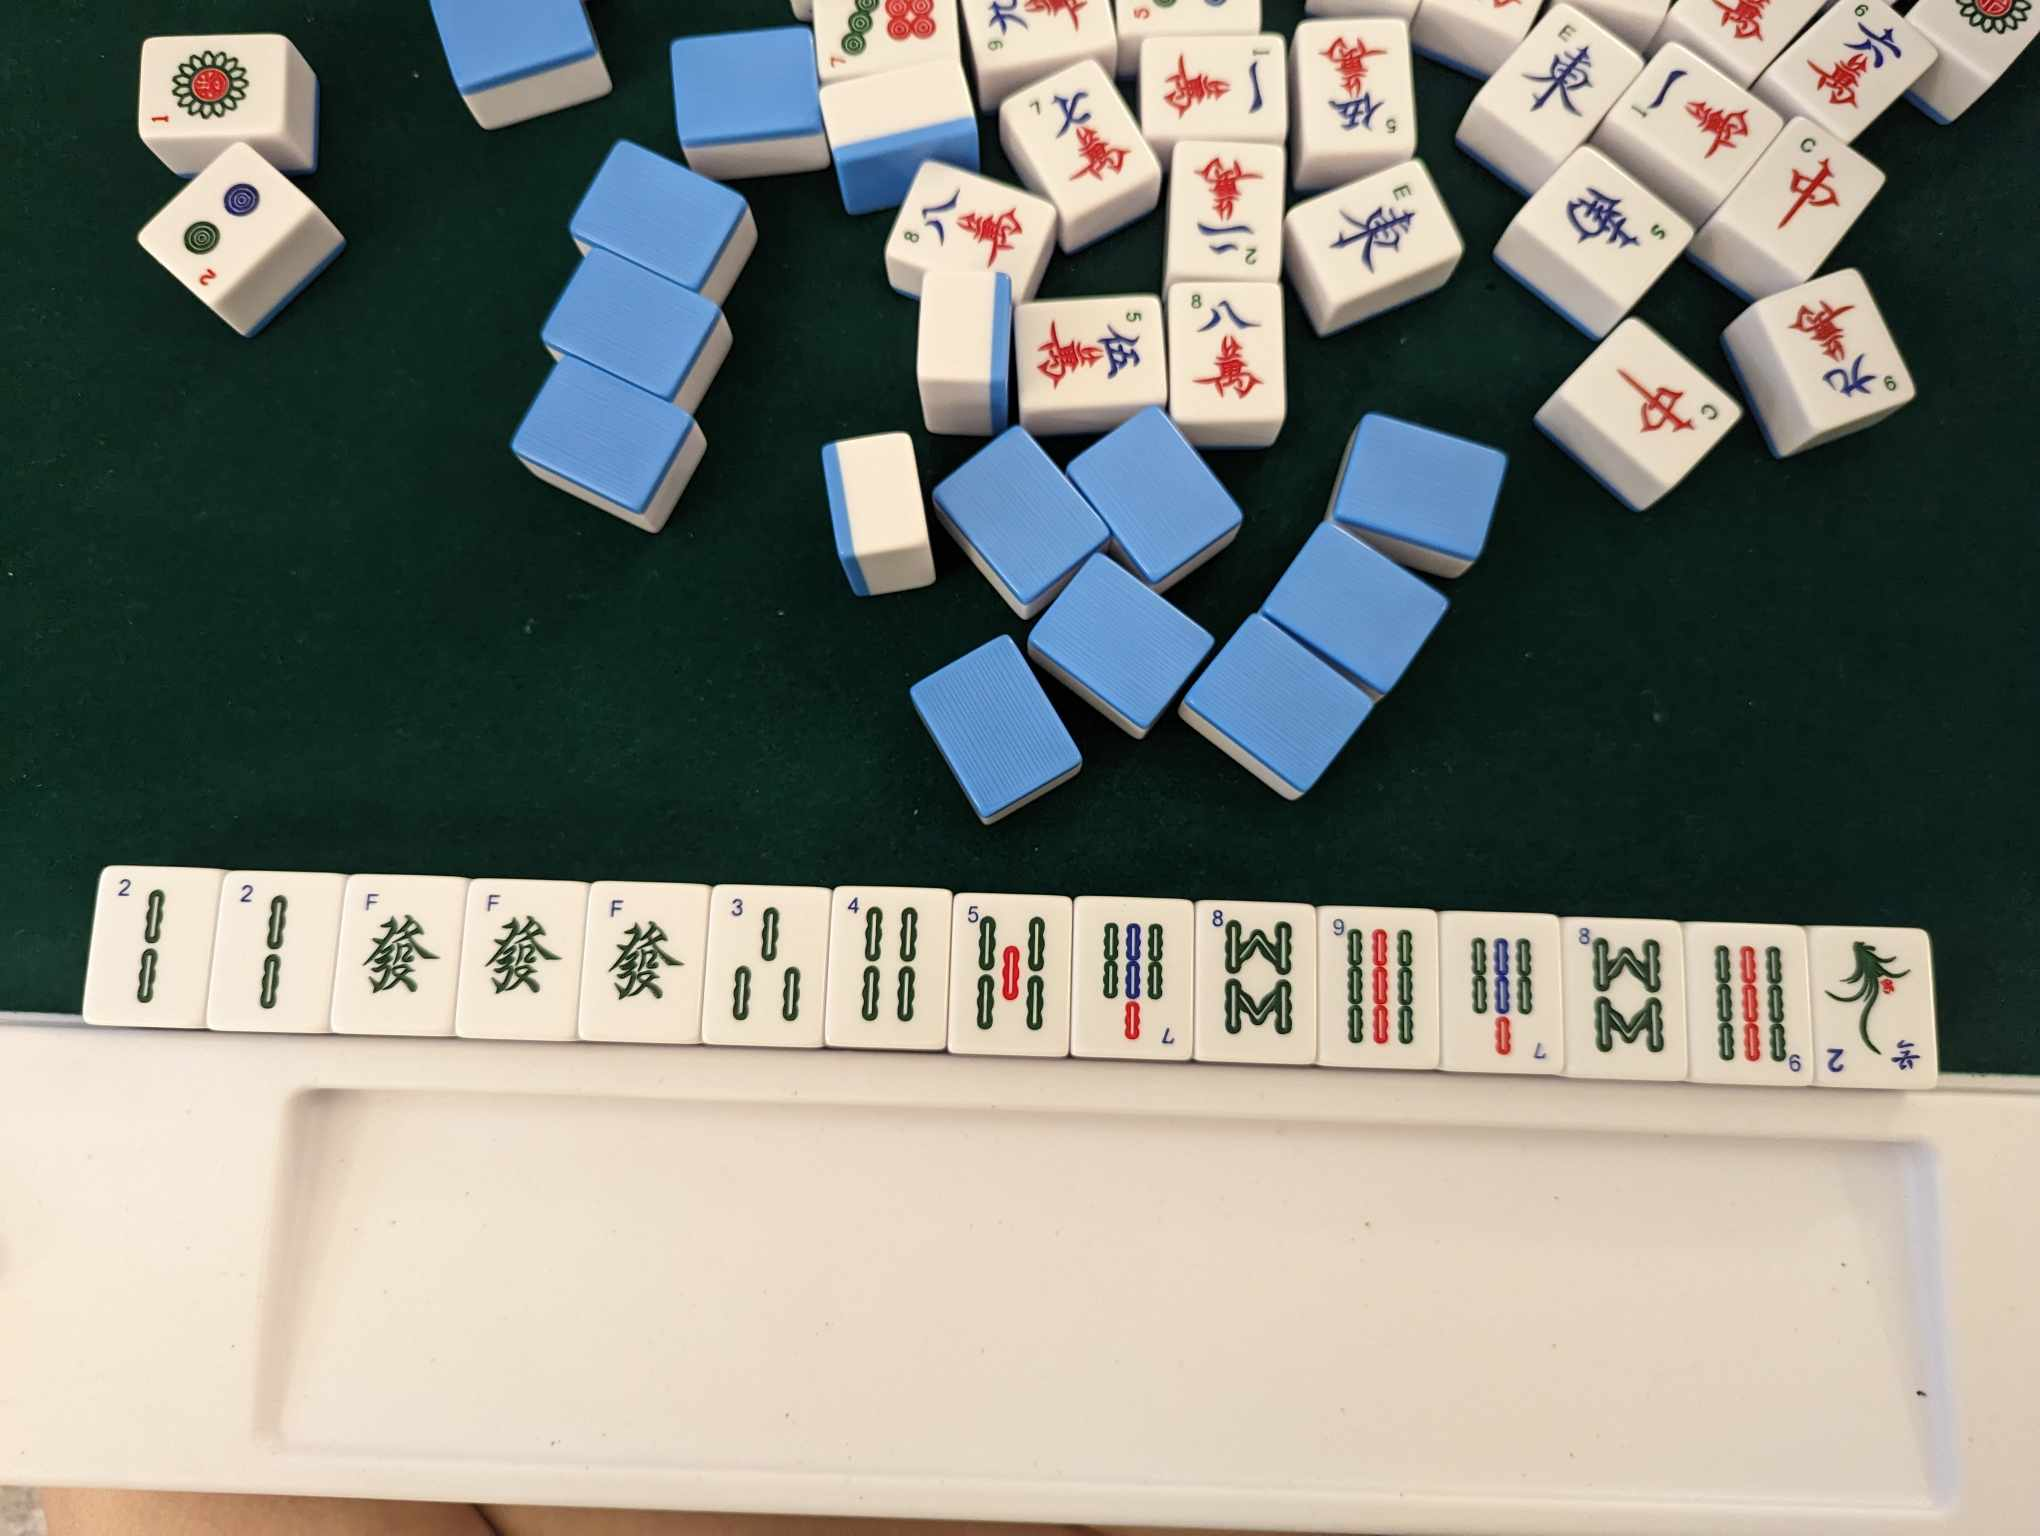bamboo-eight: (1574, 921, 1679, 1075), (1201, 904, 1309, 1052)
bamboo-five: (960, 895, 1055, 1046)
bamboo-four: (837, 889, 942, 1047)
bamboo-nine: (1693, 929, 1805, 1084), (1326, 910, 1430, 1063)
bamboo-seven: (1448, 916, 1556, 1068), (1084, 905, 1182, 1049)
bamboo-three: (718, 892, 811, 1041)
bamboo-two: (227, 879, 323, 1021), (106, 878, 202, 1013)
flower-blue_two: (1819, 933, 1930, 1079)
honor-green_dragon: (473, 883, 574, 1033), (592, 887, 695, 1033), (348, 883, 448, 1029)
